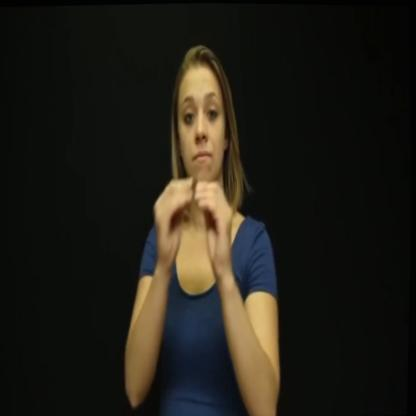Fix: (143, 156, 246, 301)
